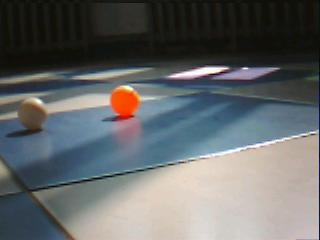oball: (110, 86, 139, 116)
